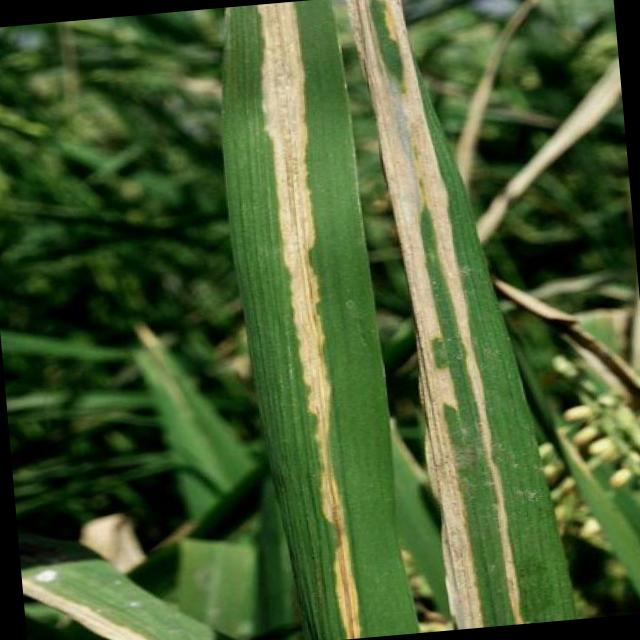Rice_Bacterial_Blight: (349, 0, 545, 627), (246, 0, 383, 637)
